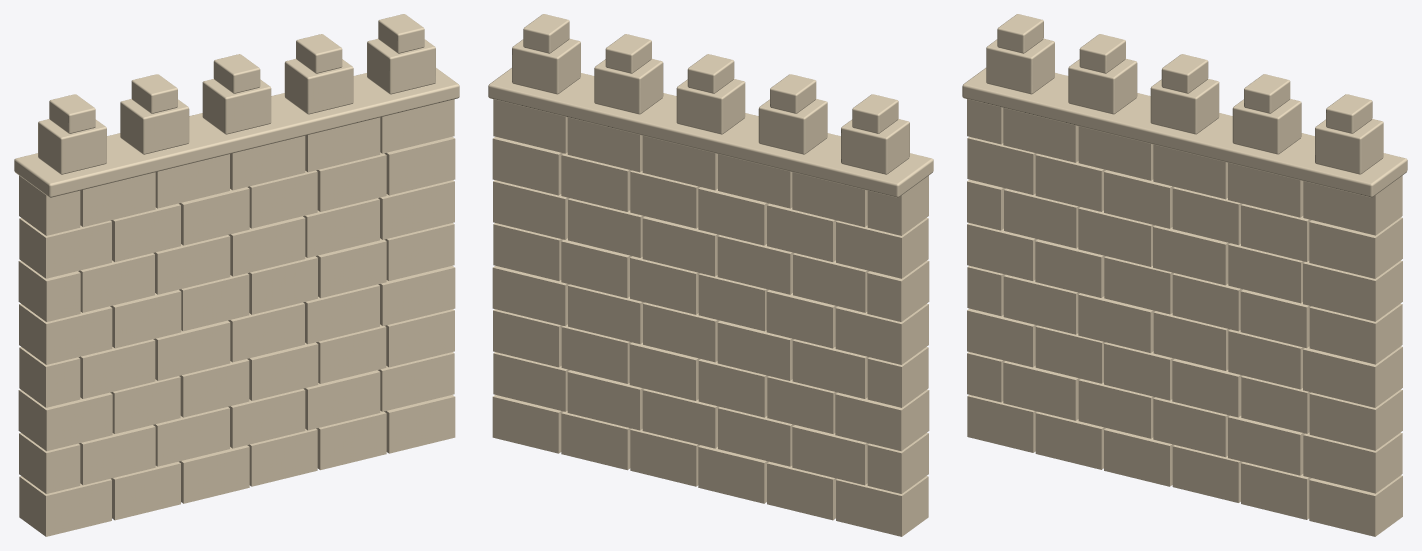
3 views of the same model, side by side, from view 1: azimuth 30°, elevation 25°; view 2: azimuth 150°, elevation 25°; view 3: azimuth 330°, elevation 25° (orthographic).
Parts seen in each view (by area): view 1: boundary-wall-run; view 2: boundary-wall-run; view 3: boundary-wall-run.
Part boxes in pixels (x1,y1,x2,y2): boundary-wall-run: [14, 14, 459, 536]; boundary-wall-run: [488, 14, 933, 536]; boundary-wall-run: [962, 14, 1407, 536].
Bounding box in the file's own units: 3 × 2.88 × 0.46.
